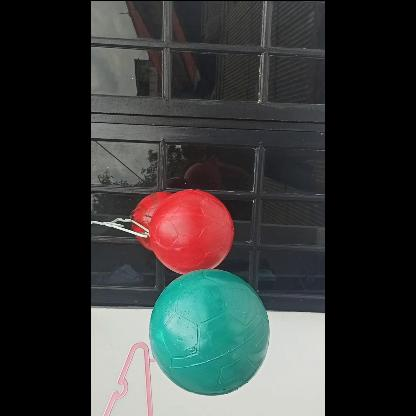green_ball: (147, 267, 271, 391)
